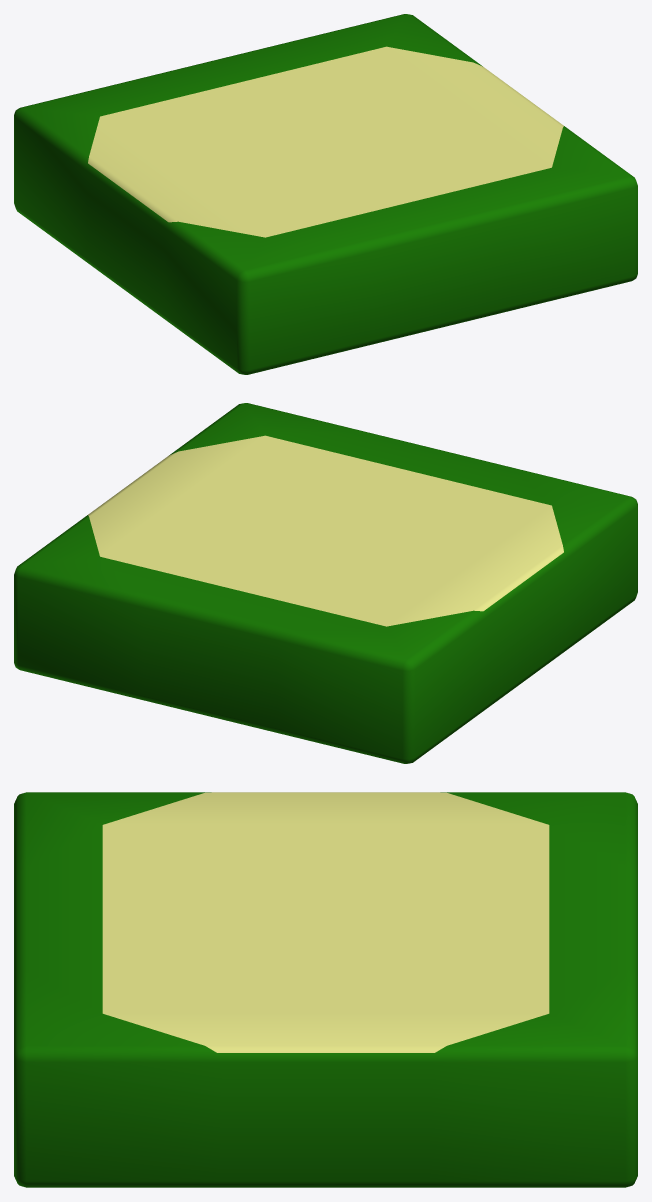
File: repeater.glb
3 views of the same model, one above another, from view 1: azimuth 30°, elevation 25°; view 2: azimuth 150°, elevation 25°; view 3: azimuth 270°, elevation 25° (orthographic). The views are drawn at different scales.
Parts seen in each view (by area): view 1: Cube; view 2: Cube; view 3: Cube.
Boxes of the visible parts, x1,y1,x2,y2 form: Cube: (14,14,637,374); Cube: (14,403,637,763); Cube: (14,792,637,1187).
Size of the model in its own units: 0.5 by 0.125 by 0.5.
